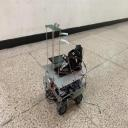cart: (41, 59, 88, 115)
